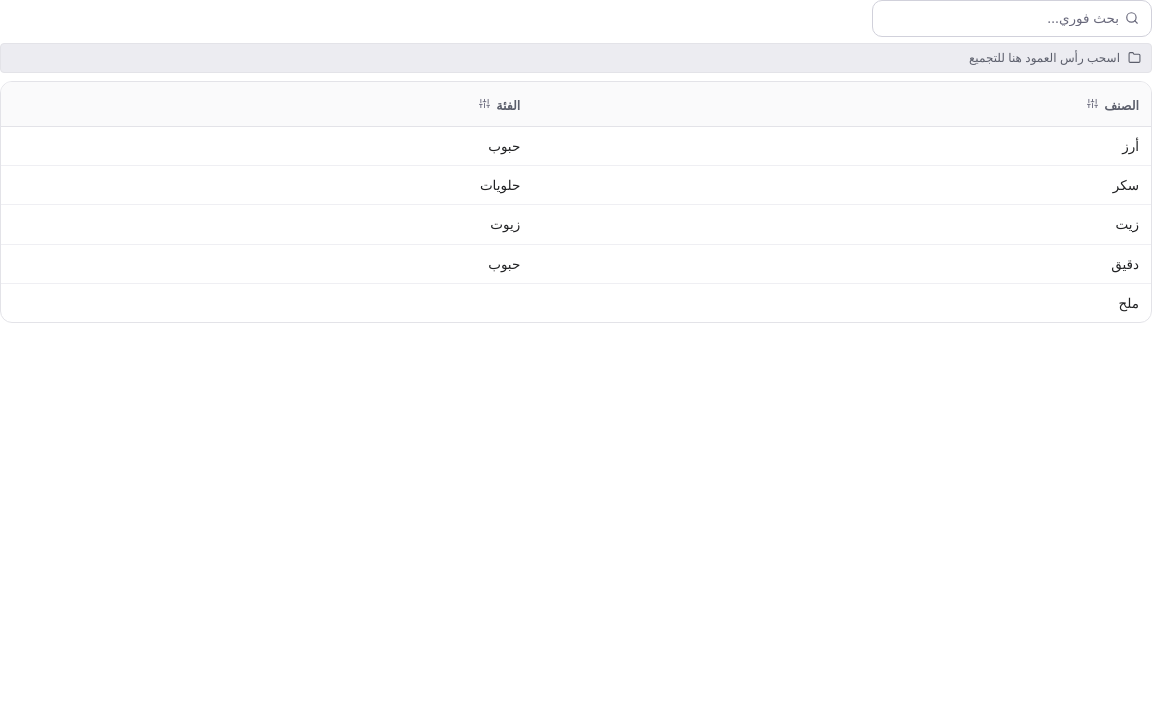
Test case: imd_table_tools_test › الجدول يُبلّغ عدّاد السجلات بالمعروض والإجمالي
Later steps or results of the test are not shown.
Click the button titled "تصفية العمود" next to "الصنف". click: {"x": 1093, "y": 104}
box: [1085, 96, 1100, 111]
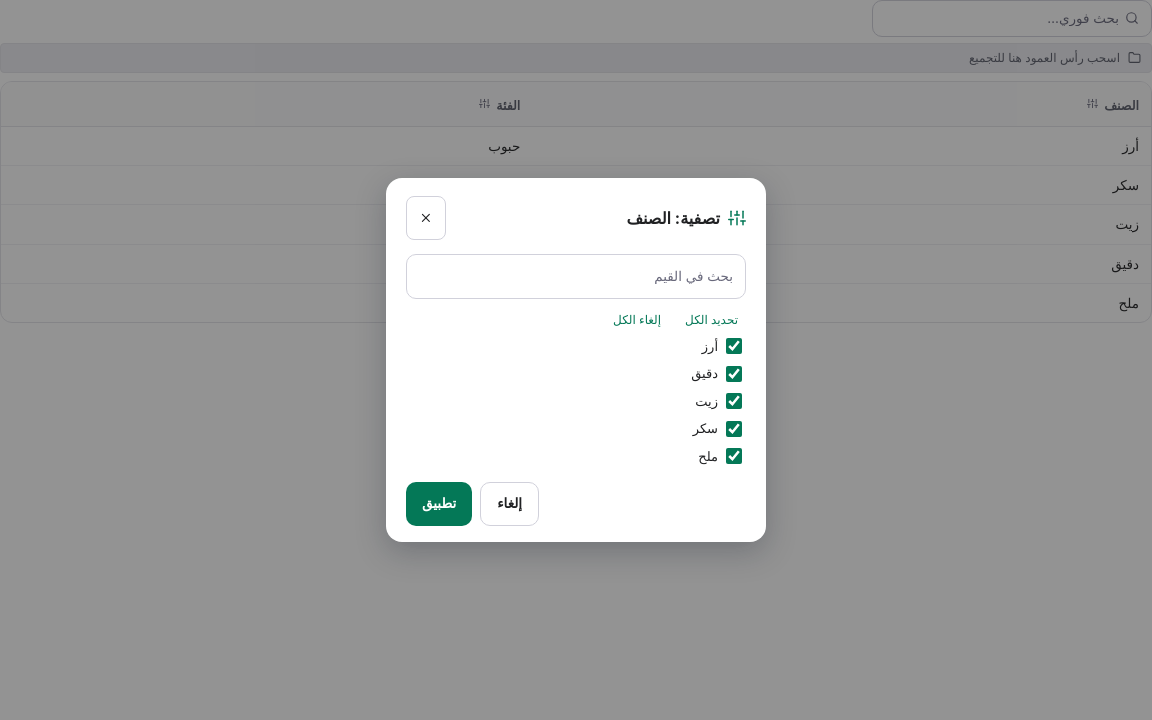
Now the button "إلغاء الكل" is shown, box [605, 307, 669, 333]
